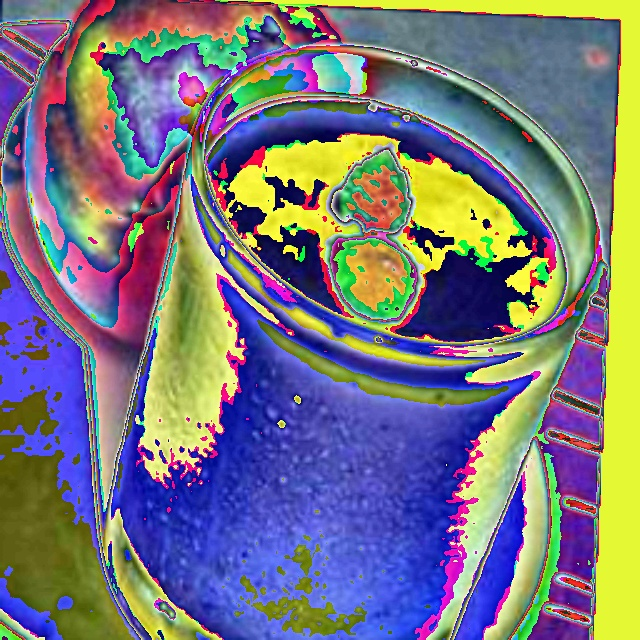background: (23, 0, 577, 640)
